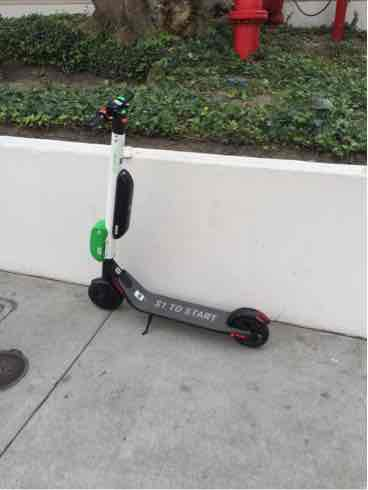scooter: (69, 76, 276, 358)
